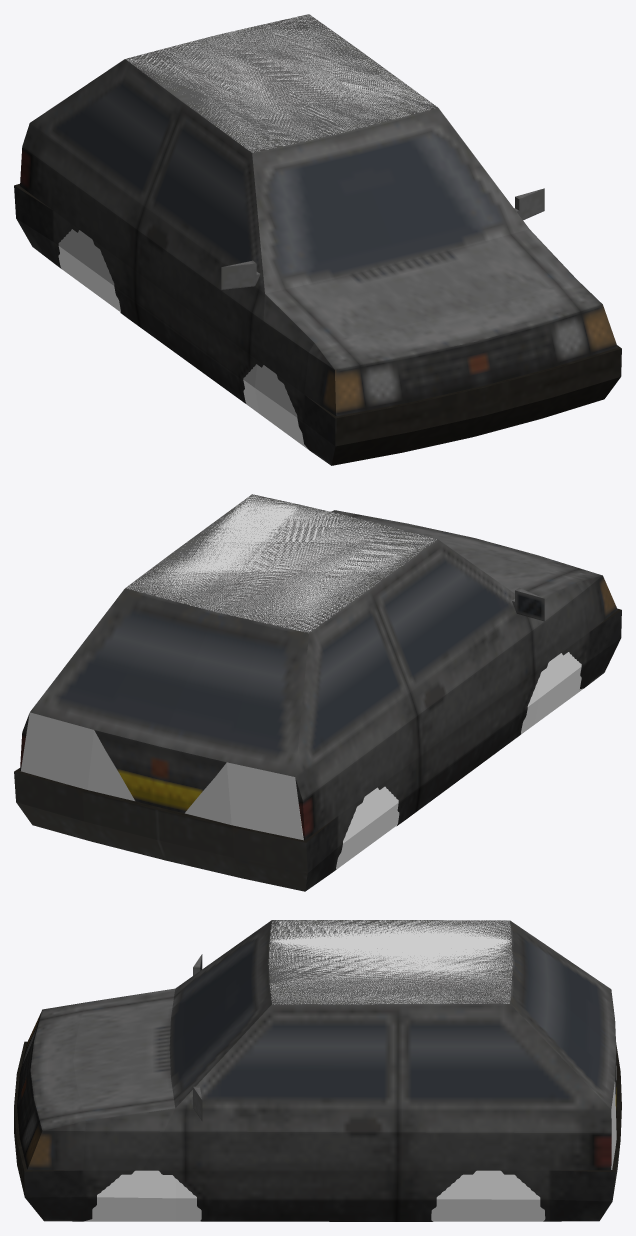
The model's file is digby_voyager_body.fbx.
The picture shows the model from 3 angles, top to bottom: view 1: azimuth 30°, elevation 25°; view 2: azimuth 150°, elevation 25°; view 3: azimuth 270°, elevation 25°; orthographic projection. The views are drawn at different scales.
Visible parts, largest first — view 1: Car, PhysTop, Phys; view 2: Car, PhysTop, Phys; view 3: Car, PhysTop, Phys.
Boxes of the visible parts, x1,y1,x2,y2 form: Car: [14, 14, 621, 465]; PhysTop: [127, 14, 436, 152]; Phys: [58, 229, 308, 449]; Car: [14, 494, 621, 891]; PhysTop: [126, 494, 436, 631]; Phys: [21, 652, 583, 869]; Car: [14, 920, 621, 1221]; PhysTop: [268, 920, 512, 1004]; Phys: [84, 1066, 616, 1221].
Bounding box in the file's own units: 247 × 155 × 432.
